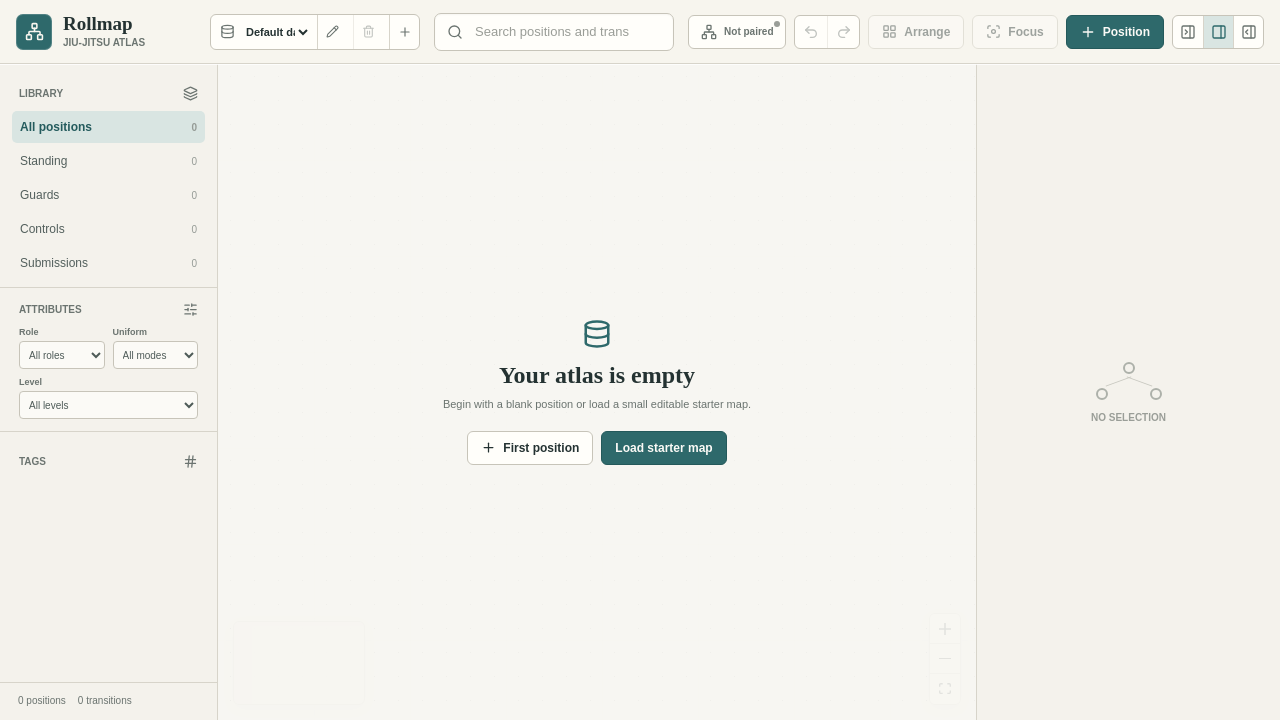
Test case: application shell › renames and deletes a custom knowledge database
The image size is (1280, 720).
Click the button named "New database" at (404, 32), box 389,14 -> 419,48
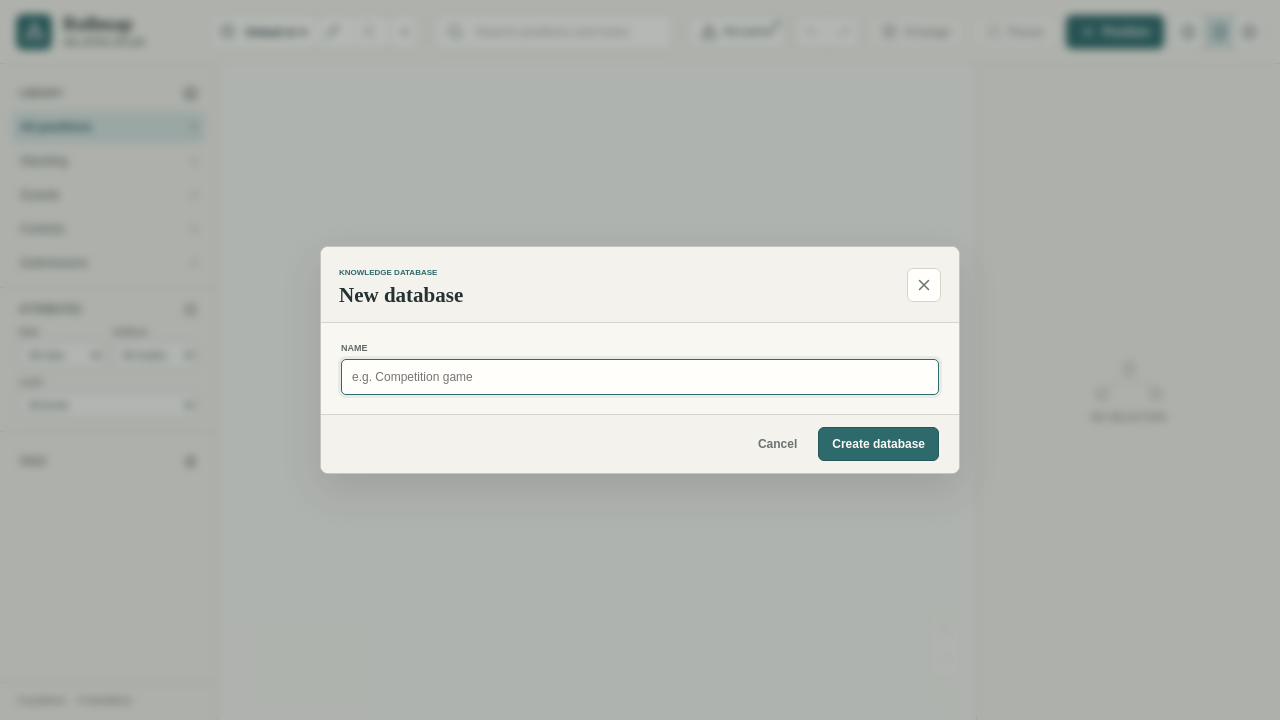
Type "Competition game" into the field labelled "Name" at (640, 377), box 341,359 -> 939,395
Click the button "Create database" at (879, 444), box 818,427 -> 939,461
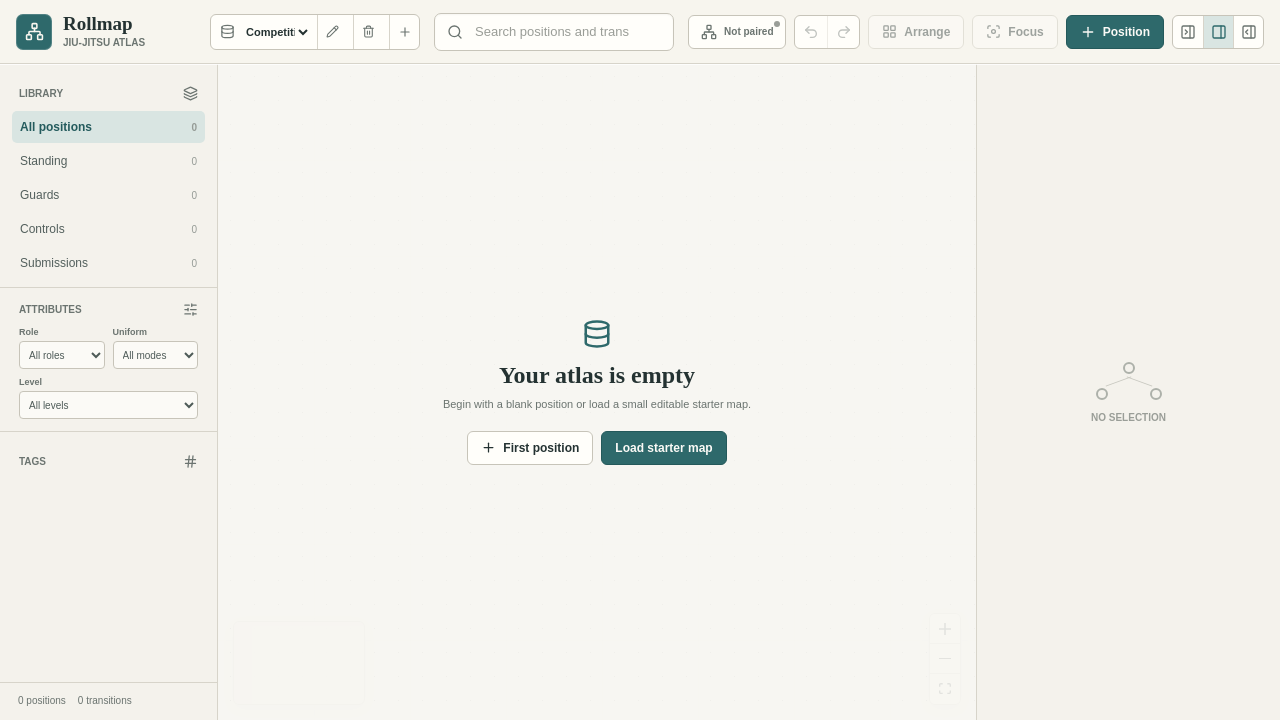
Click the button named "Rename database" at (332, 32), box 317,14 -> 347,48
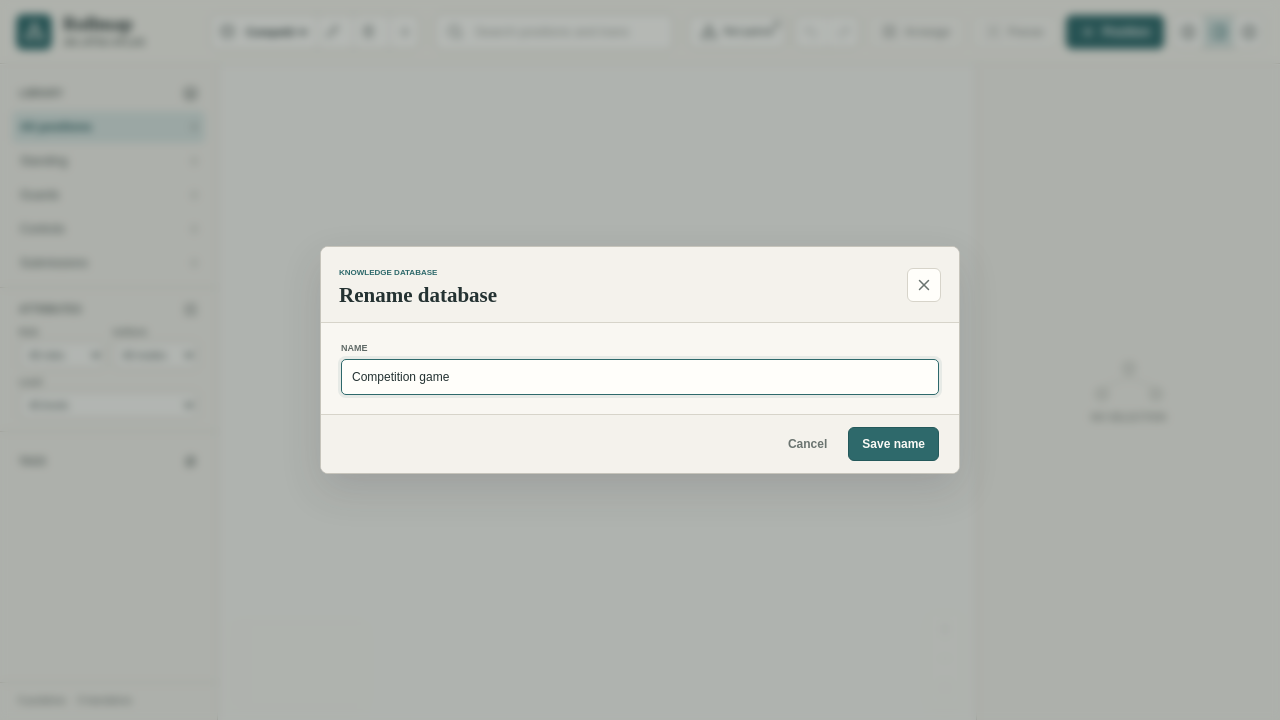
Replace the text in the field labelled "Name" with "Guard study" at (640, 377), box 341,359 -> 939,395
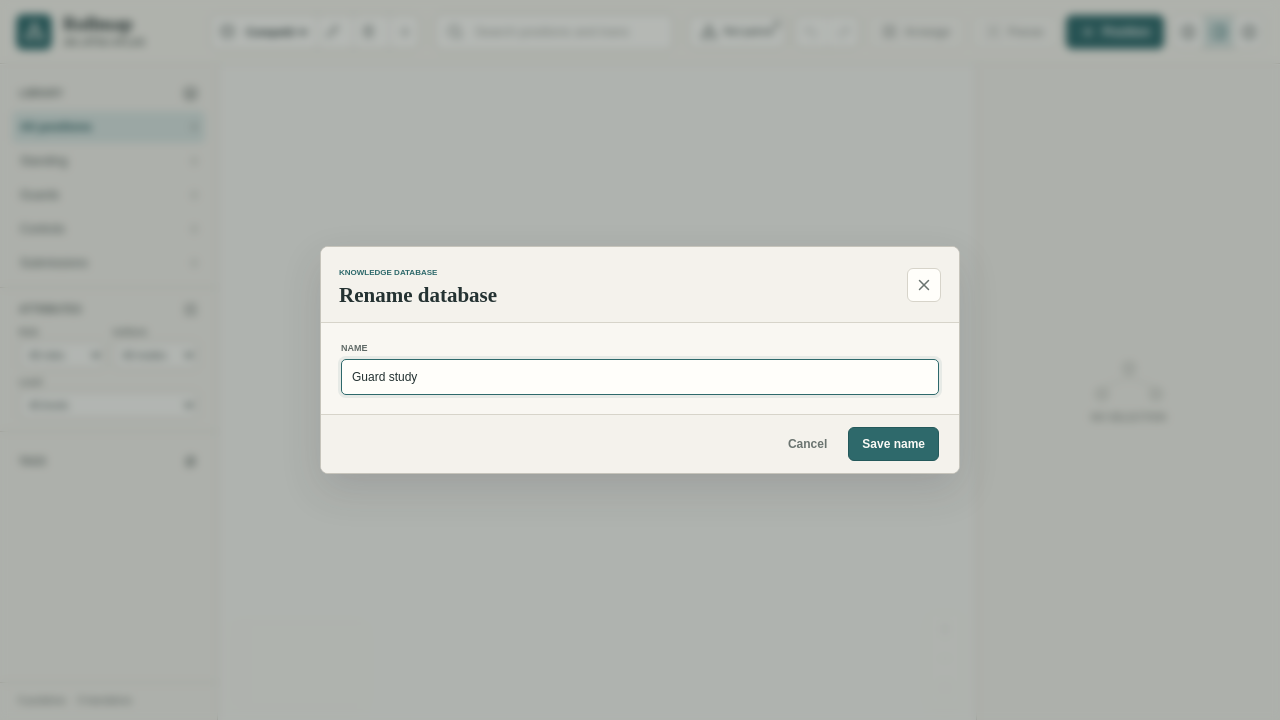
Click the button "Save name" at (894, 444), box 848,427 -> 939,461
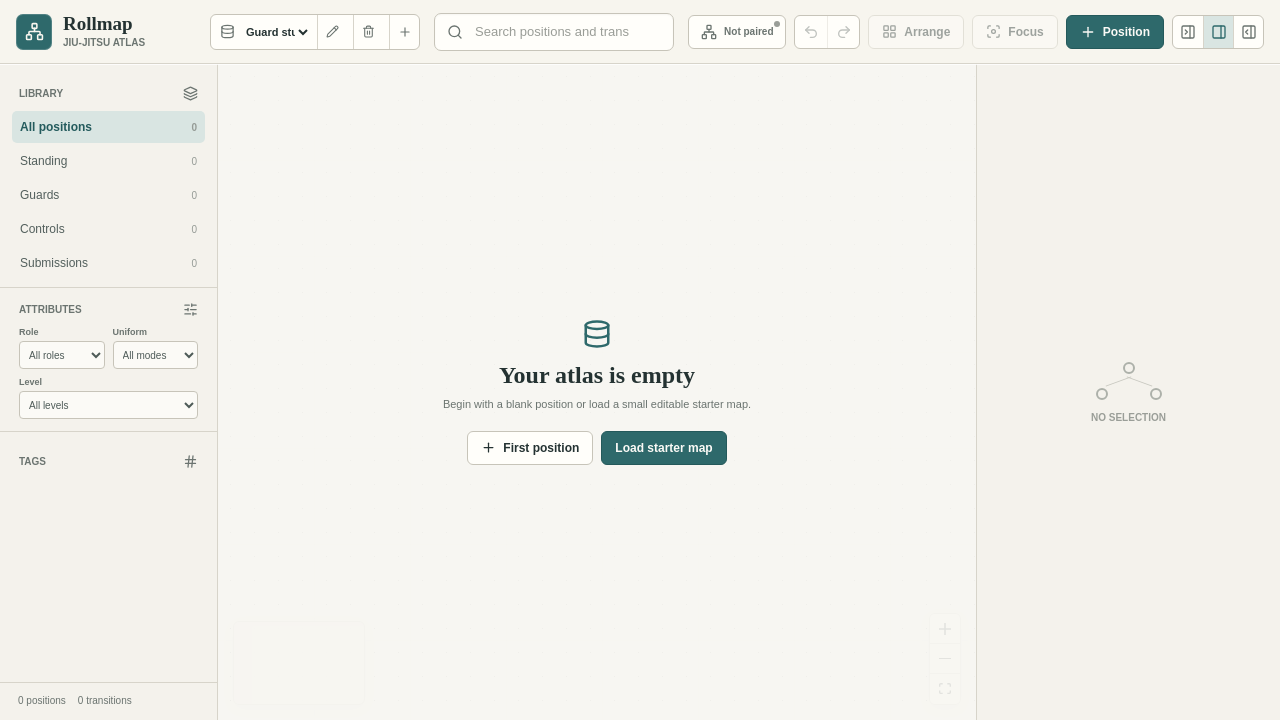
Expected: the dropdown named "Knowledge database" shows "Guard study", 242,14 -> 311,48
Click the button named "Delete database" at (368, 32), box 353,14 -> 383,48
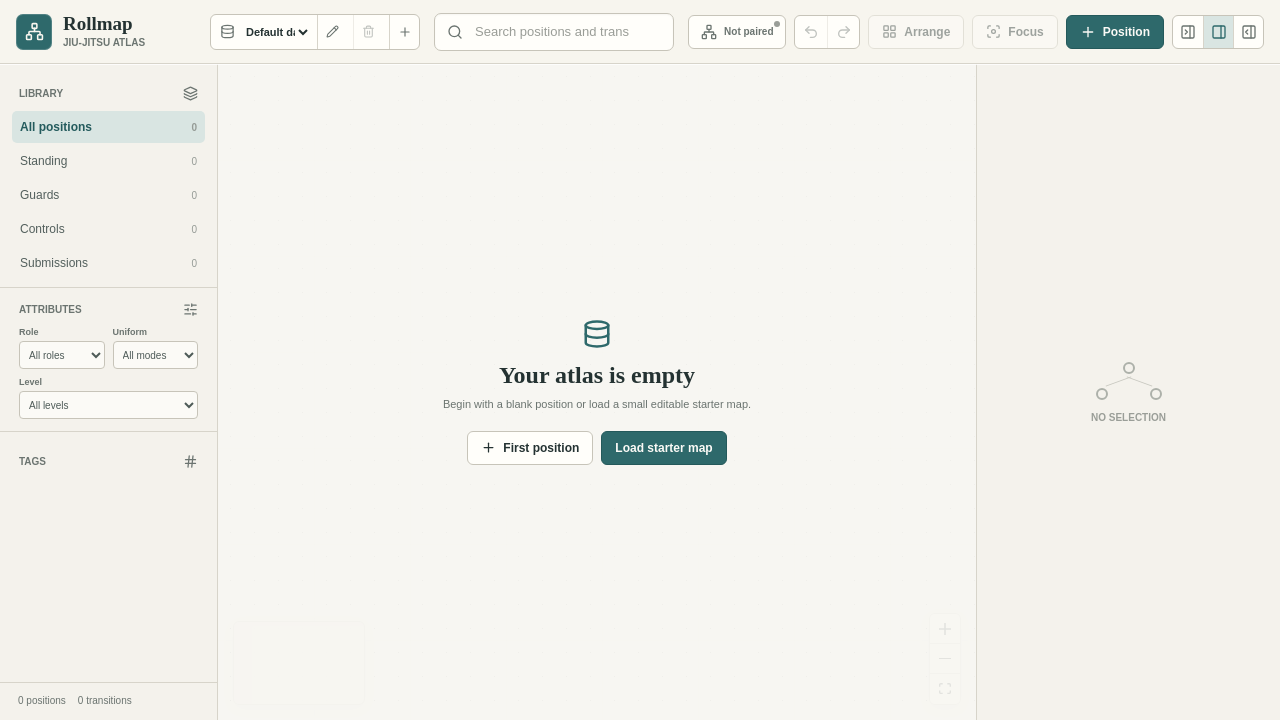
Expected: the option "Guard study" is not shown
Expected: the dropdown named "Knowledge database" shows "Default database", 242,14 -> 311,48
